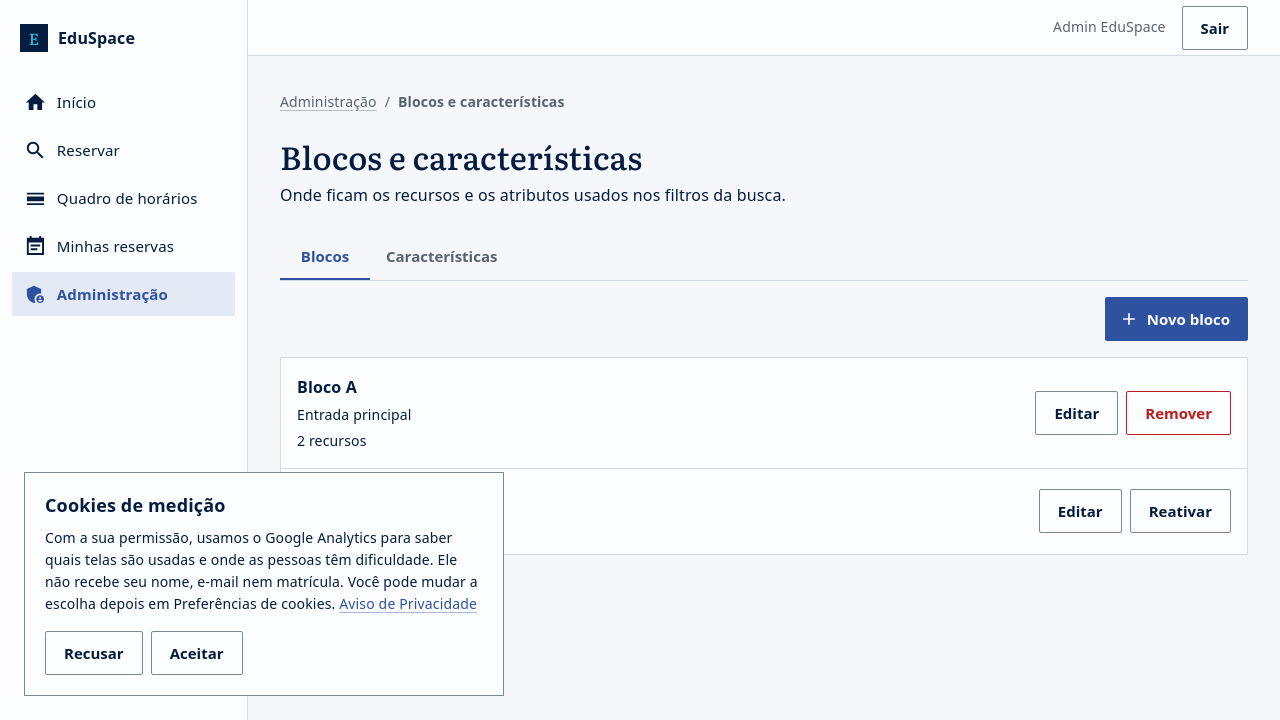
Test case: admin buildings and features › explains that a building with resources is deactivated
What coordinates should you click on to do the following:
click the button with aria-label "Remover Bloco A"
I would click on:
 (1179, 413)
Its box is [1126,391,1231,435].
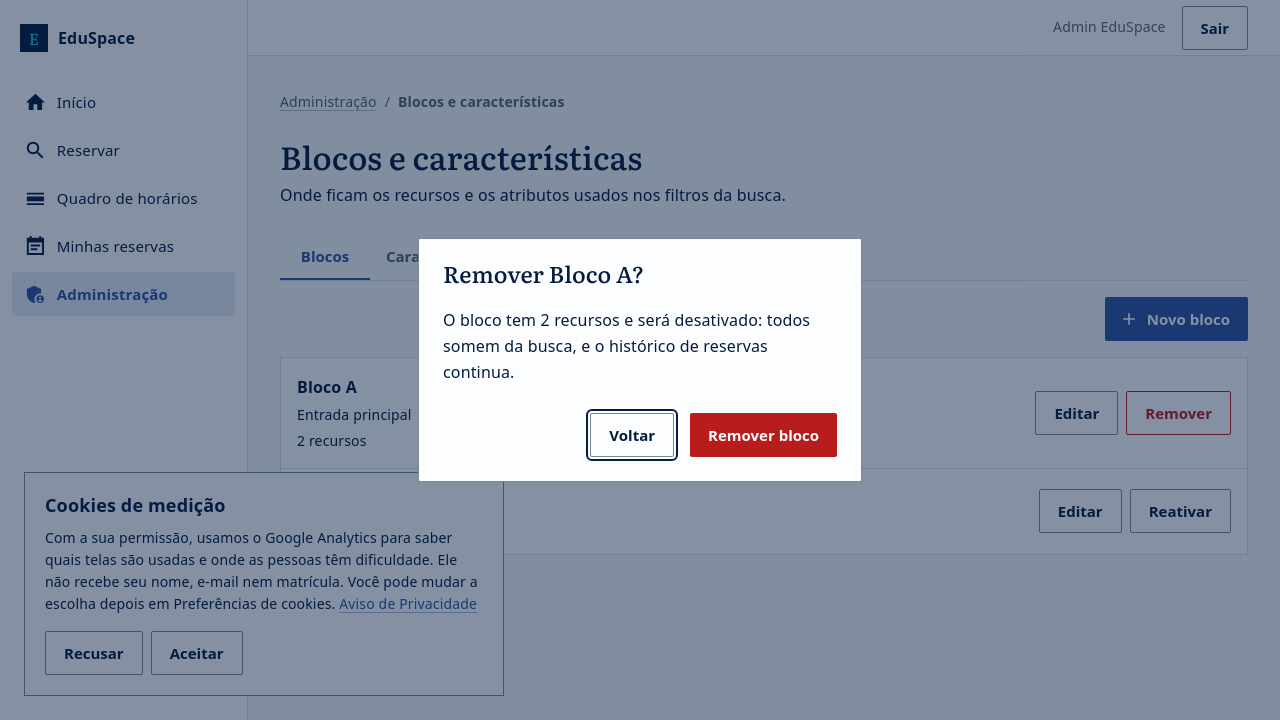
Check: the dialog "Remover Bloco A?" shows "O bloco tem 2 recursos e será desativado", box [443,309,810,383]
